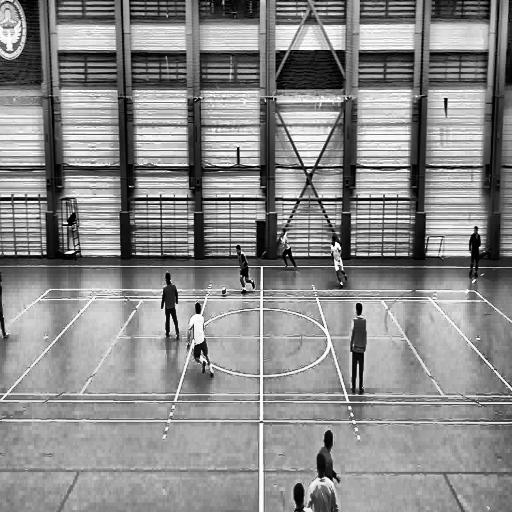ball: (221, 284, 227, 297)
player: (186, 302, 214, 379), (348, 302, 366, 397), (161, 274, 181, 340), (236, 244, 256, 296), (330, 234, 347, 291), (467, 226, 483, 279), (279, 226, 297, 272), (0, 270, 7, 342)
